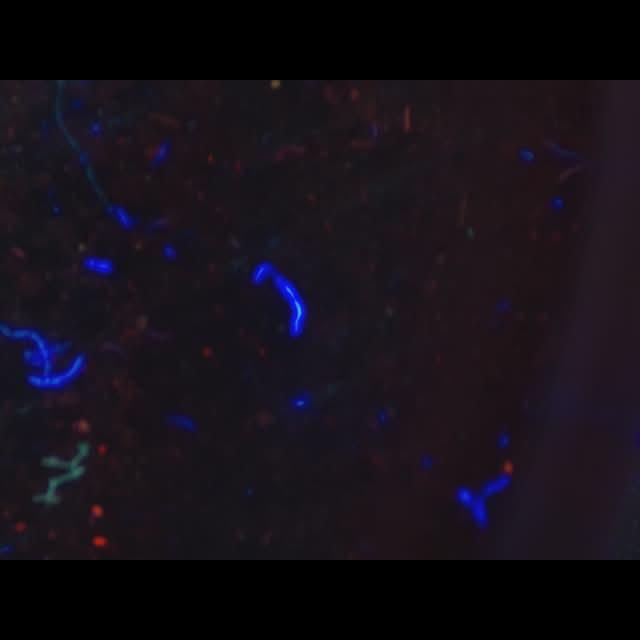Fibre: (34, 442, 90, 506)
